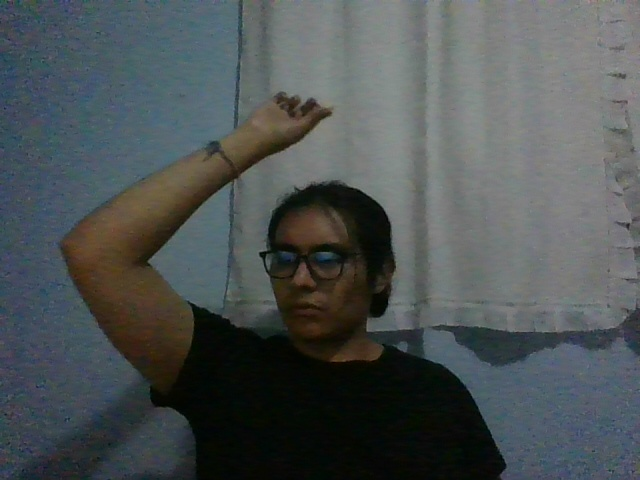goma: (315, 100, 334, 112)
